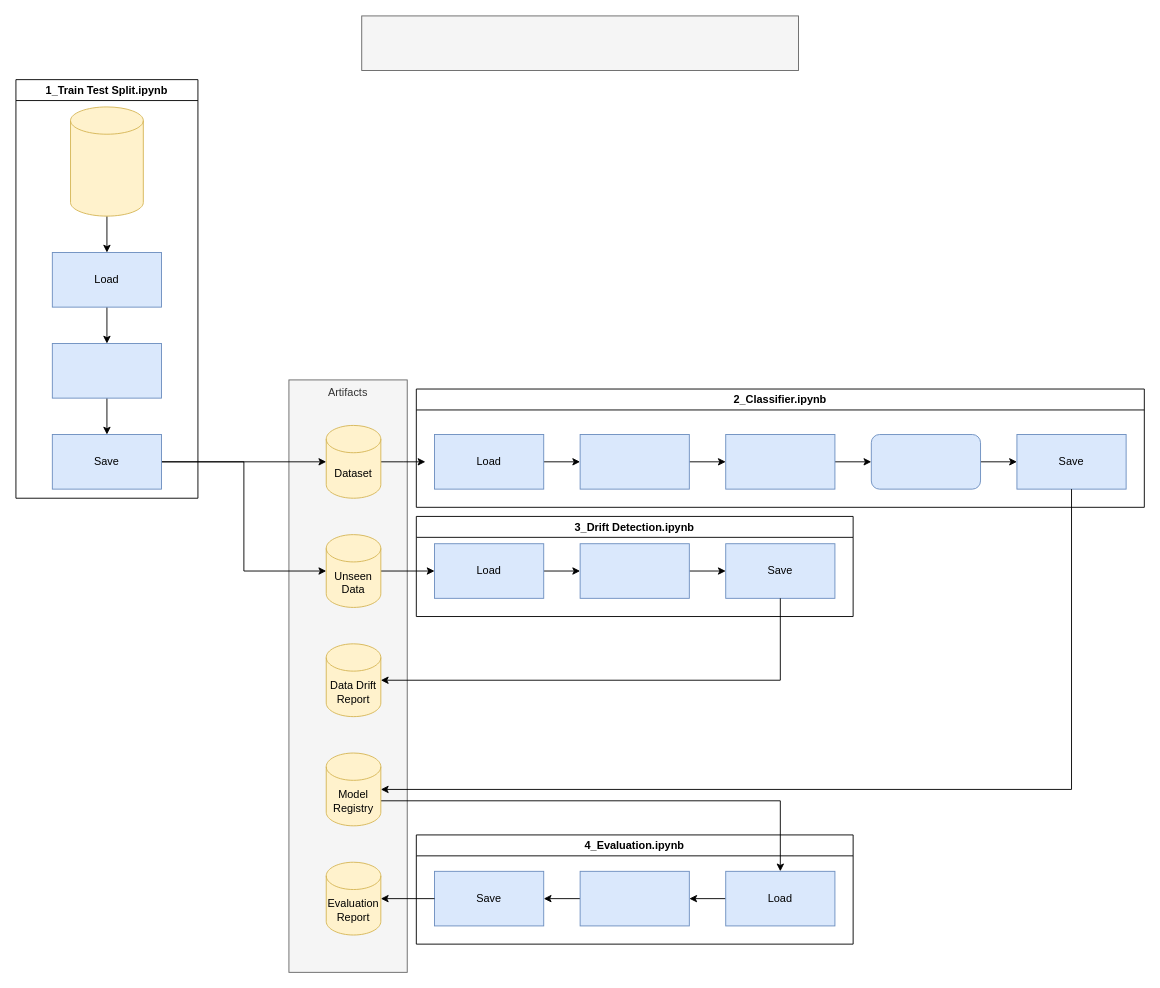
This 1160x988 diagram has some shape labels left out. The shapes that lost their labels are listed below. From the top down, each one's centre as x and y in pixels, then its label:
the point at 580,43: Metaflow Demo
the point at 106,161: Iris Dataset
the point at 106,370: Shuffle
the point at 634,461: Preprocess
the point at 780,461: Training
the point at 925,461: Classifier
the point at 634,570: Evidently Report
the point at 634,898: Evaluate
